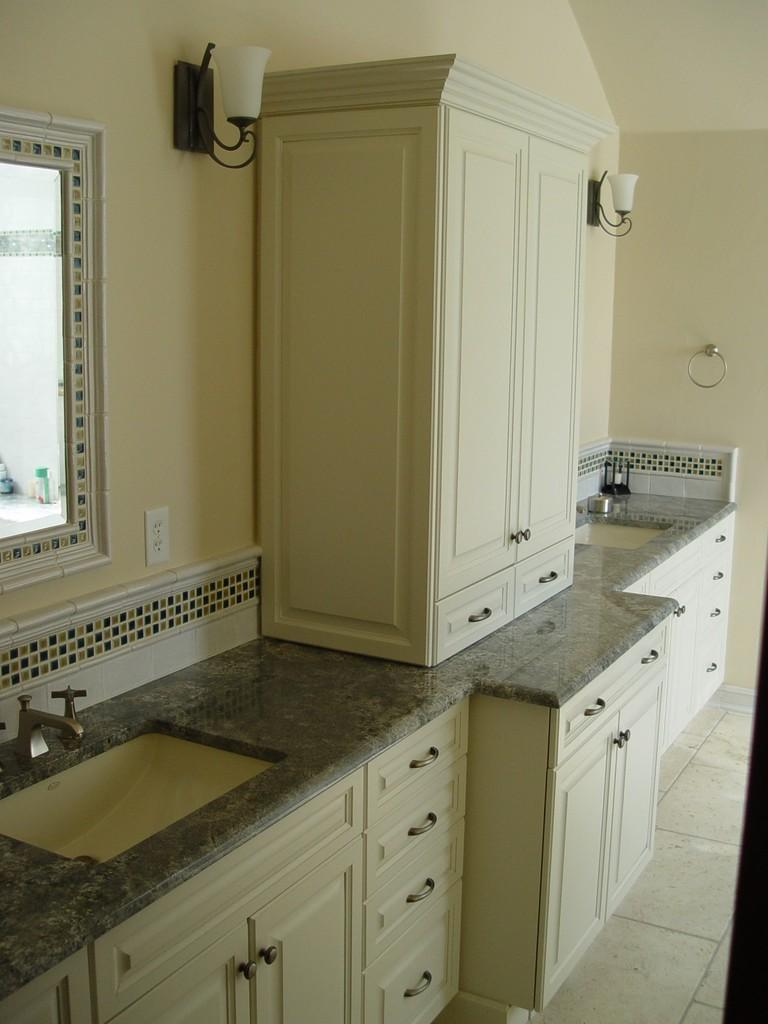cabinet_door: (442, 112, 522, 556), (524, 144, 570, 544), (262, 909, 356, 1024), (558, 738, 605, 940), (372, 930, 458, 1020), (140, 959, 255, 1024), (620, 698, 660, 858), (567, 646, 659, 700), (441, 584, 511, 642), (384, 864, 458, 918), (378, 752, 456, 798), (670, 588, 696, 716), (378, 810, 458, 846), (521, 552, 574, 590), (697, 643, 726, 694), (705, 560, 731, 598), (704, 522, 734, 553), (703, 603, 726, 639)
handle: (405, 741, 442, 779), (579, 690, 610, 728), (410, 868, 434, 914), (402, 970, 438, 1000), (404, 806, 436, 838), (233, 948, 256, 992), (464, 600, 495, 627), (264, 930, 280, 974), (642, 642, 658, 680), (706, 648, 722, 680), (538, 565, 556, 593), (619, 716, 633, 752), (510, 515, 521, 552), (675, 594, 688, 622), (709, 602, 721, 632), (710, 565, 722, 593), (716, 529, 728, 555), (522, 516, 531, 544), (613, 727, 621, 755)
